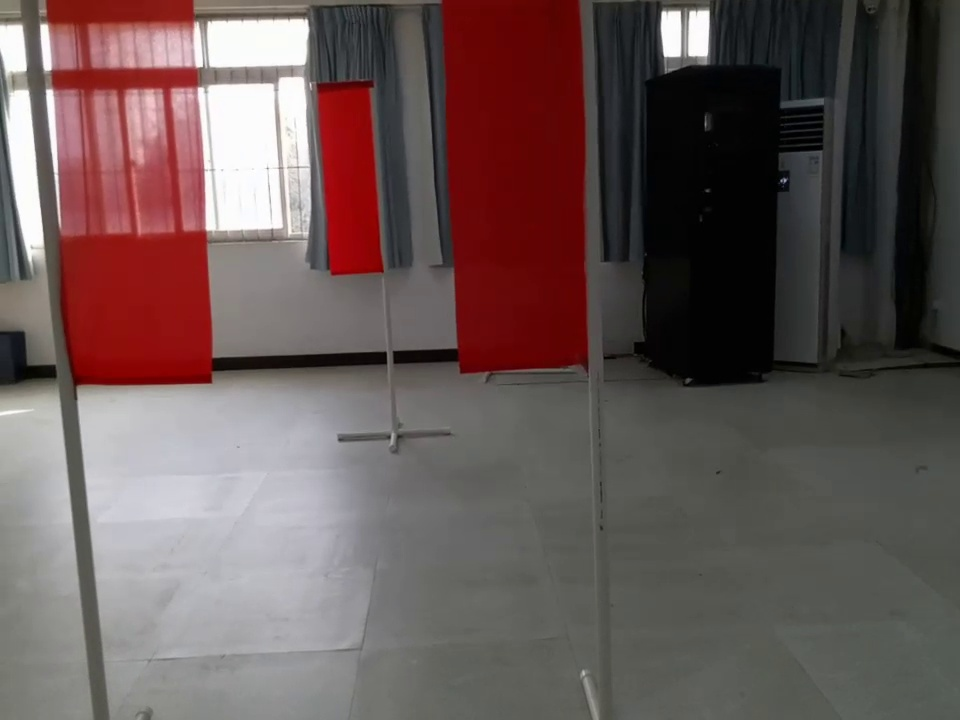qi: (12, 1, 219, 399), (442, 1, 613, 371), (320, 58, 391, 281)
